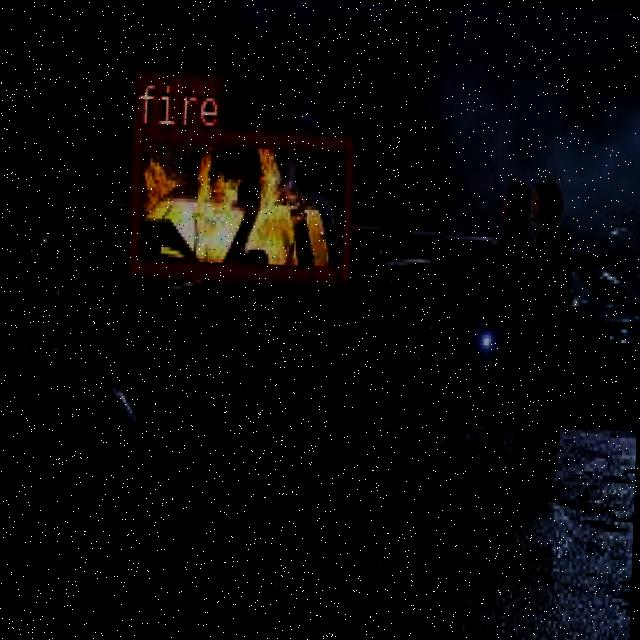fire: (126, 125, 353, 280)
